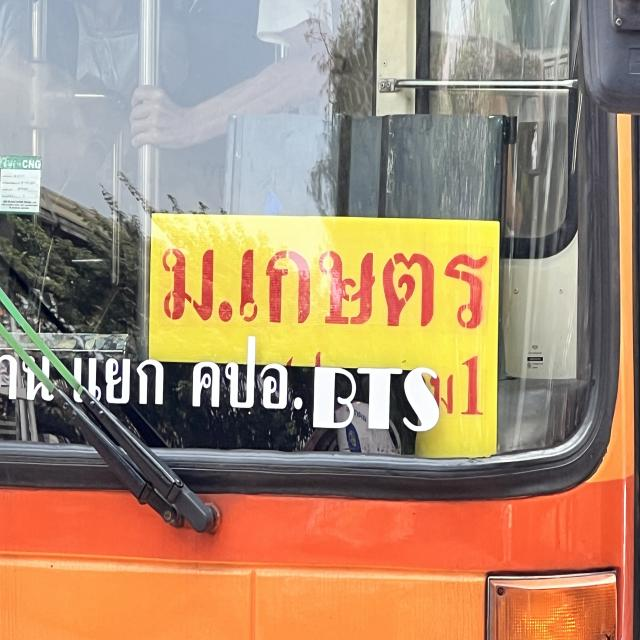BMTA-bus: (0, 0, 640, 640)
Destination-Sign-Extra-Bus-Expressway: (146, 210, 497, 458)
